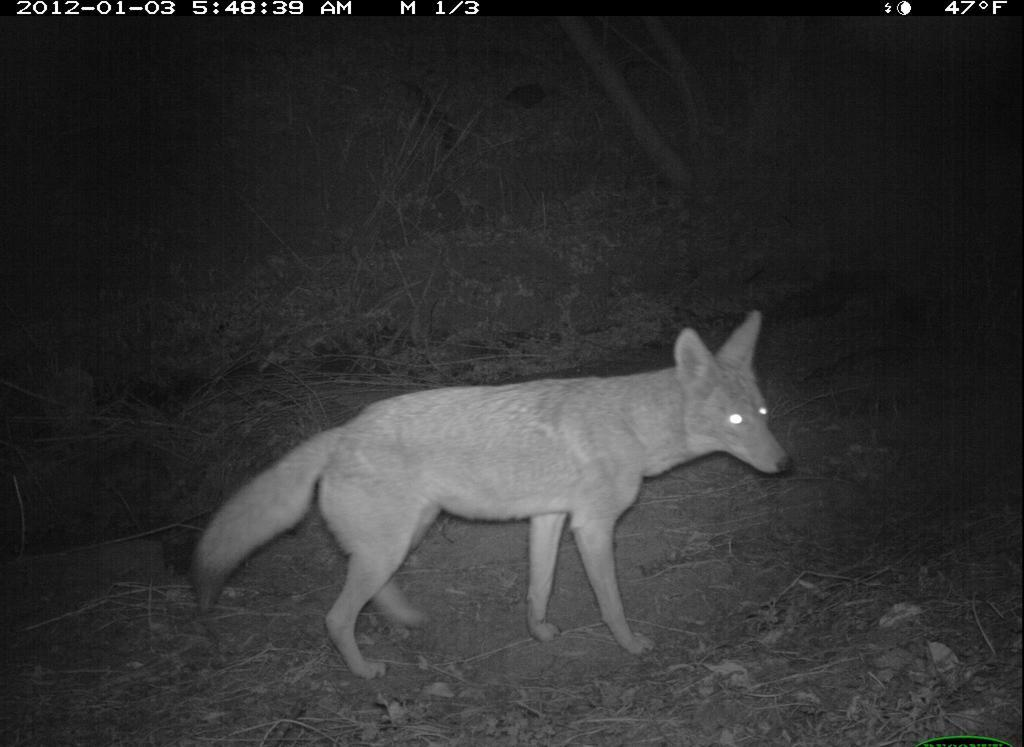coyote: (187, 312, 797, 683)
